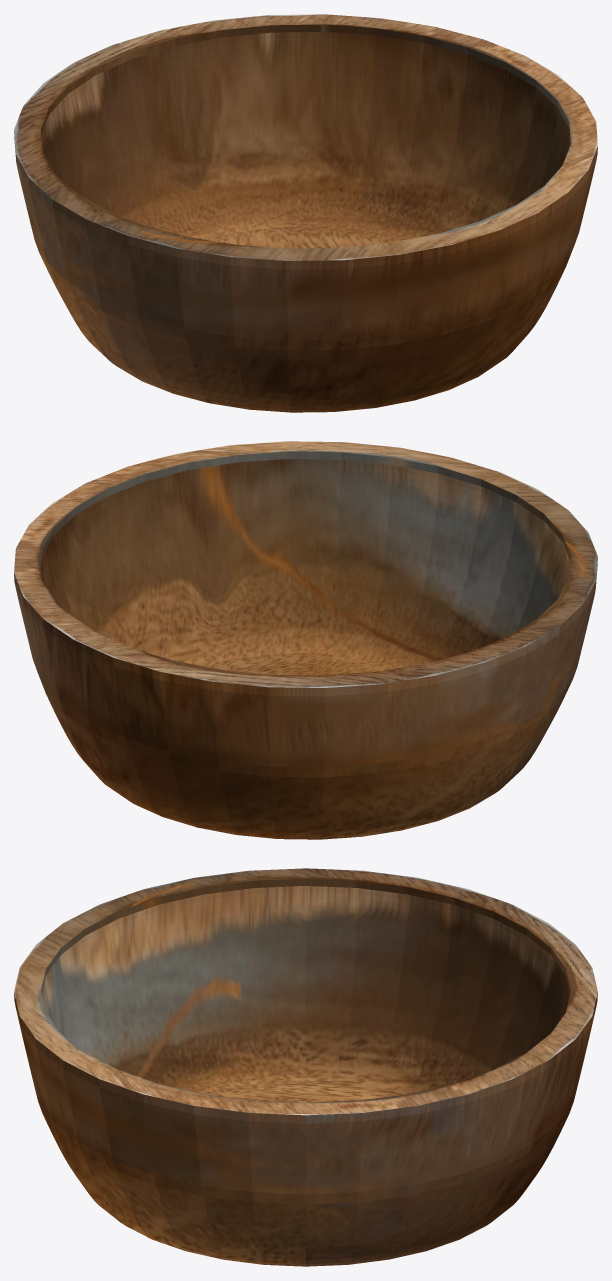
File: non_subdivided_collision.obj
3 renders of one model, top to bottom at view 1: azimuth 30°, elevation 25°; view 2: azimuth 150°, elevation 25°; view 3: azimuth 270°, elevation 25°, orthographic.
Visible parts, largest first — view 1: outer_bowl; view 2: outer_bowl; view 3: outer_bowl.
Part boxes in pixels (x1,y1,x2,y2): outer_bowl: (14,14,597,412); outer_bowl: (14,441,597,839); outer_bowl: (14,868,597,1266).
Size of the model in its own units: 0.1272 by 0.0451 by 0.1271.
